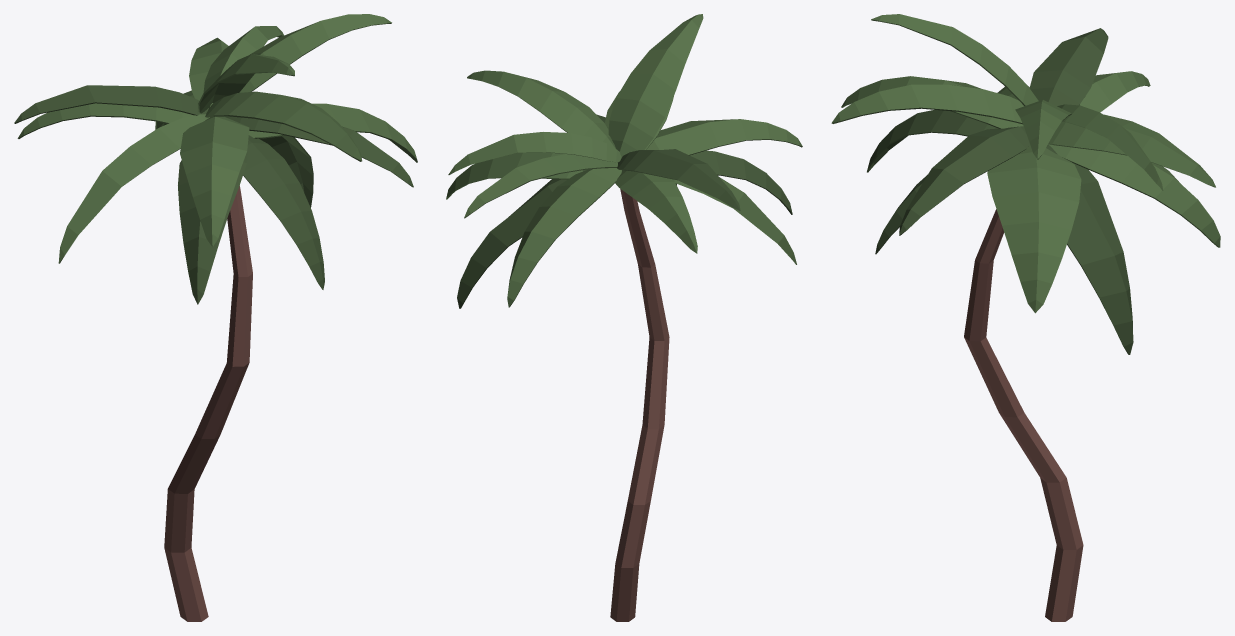
The model's file is palm_tree_1.glb.
The picture shows the model from 3 angles, left to right: view 1: azimuth 30°, elevation 25°; view 2: azimuth 150°, elevation 25°; view 3: azimuth 270°, elevation 25°; orthographic projection. The views are drawn at different scales.
Visible parts, largest first — view 1: palm_tree_1; view 2: palm_tree_1; view 3: palm_tree_1.
Boxes of the visible parts, x1,y1,x2,y2 form: palm_tree_1: (14,14,417,621); palm_tree_1: (446,14,802,621); palm_tree_1: (831,14,1220,621).
Bounding box in the file's own units: 2.88 × 4.47 × 2.61.
Materials: 1 (1 with a texture image).
